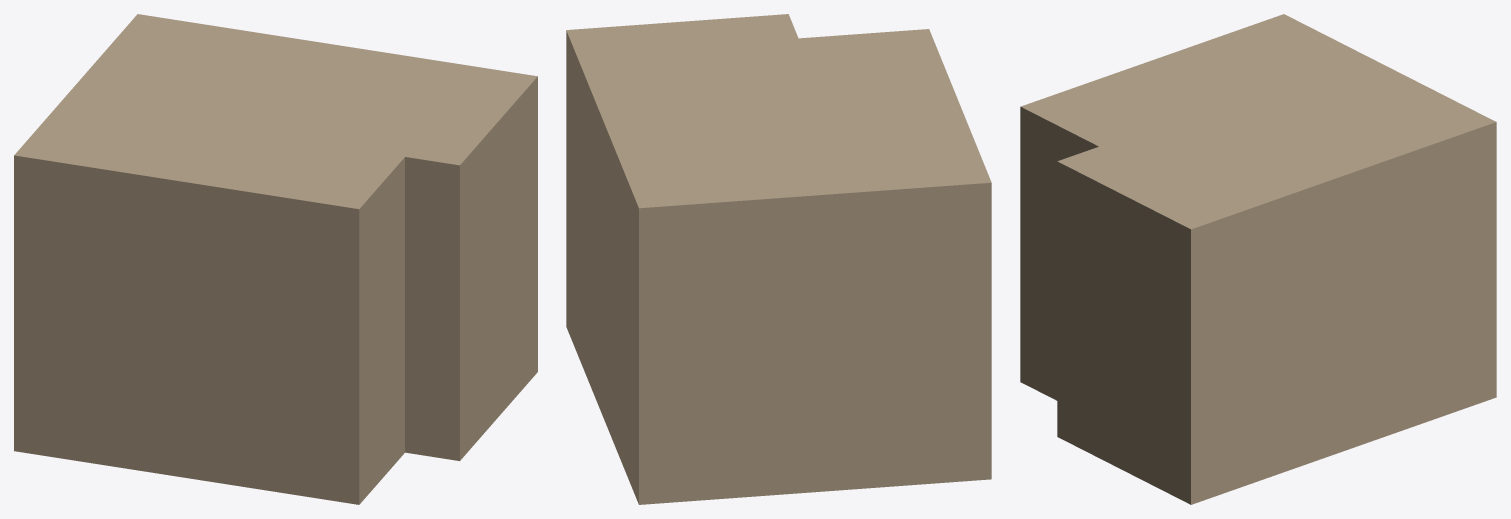
The model's file is bld_106297832.dae.
3 views of the same model, side by side, from view 1: azimuth 30°, elevation 25°; view 2: azimuth 150°, elevation 25°; view 3: azimuth 270°, elevation 25° (orthographic). The views are drawn at different scales.
Parts seen in each view (by area): view 1: bld_106297832; view 2: bld_106297832; view 3: bld_106297832.
Boxes of the visible parts, bbox=[...] form: bld_106297832: bbox=[14, 14, 537, 504]; bld_106297832: bbox=[566, 14, 991, 504]; bld_106297832: bbox=[1020, 14, 1496, 504].
Size of the model in its own units: 13.42 by 12.53 by 8.
